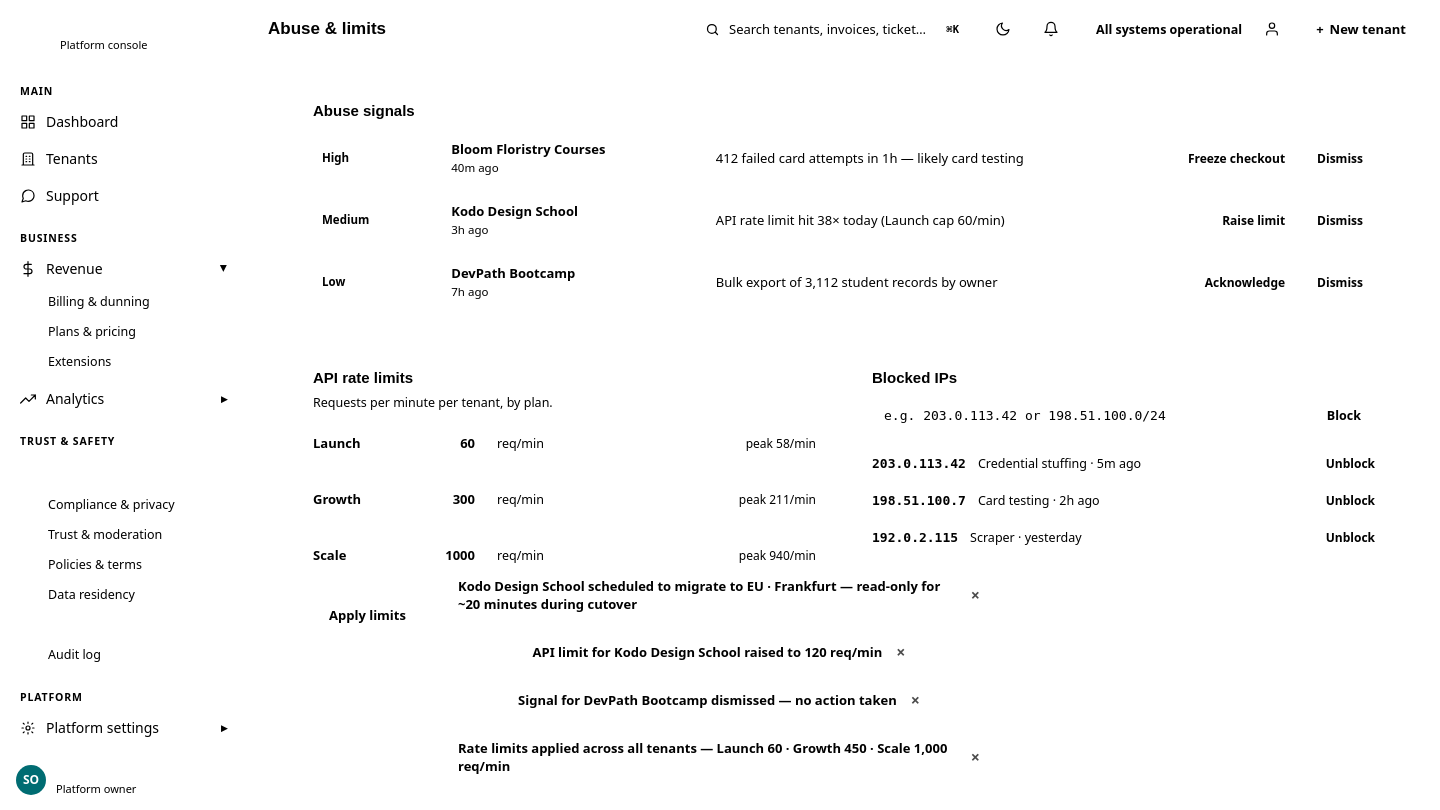
Scenario: abuse & limits › validates IPs client-side and server-side, and blocks a CIDR range
The width and height of the screenshot is (1440, 810).
Type "999.1.1.1" into the field named "IP address or CIDR range to block". click: (1088, 416)
box: [872,399,1305,432]
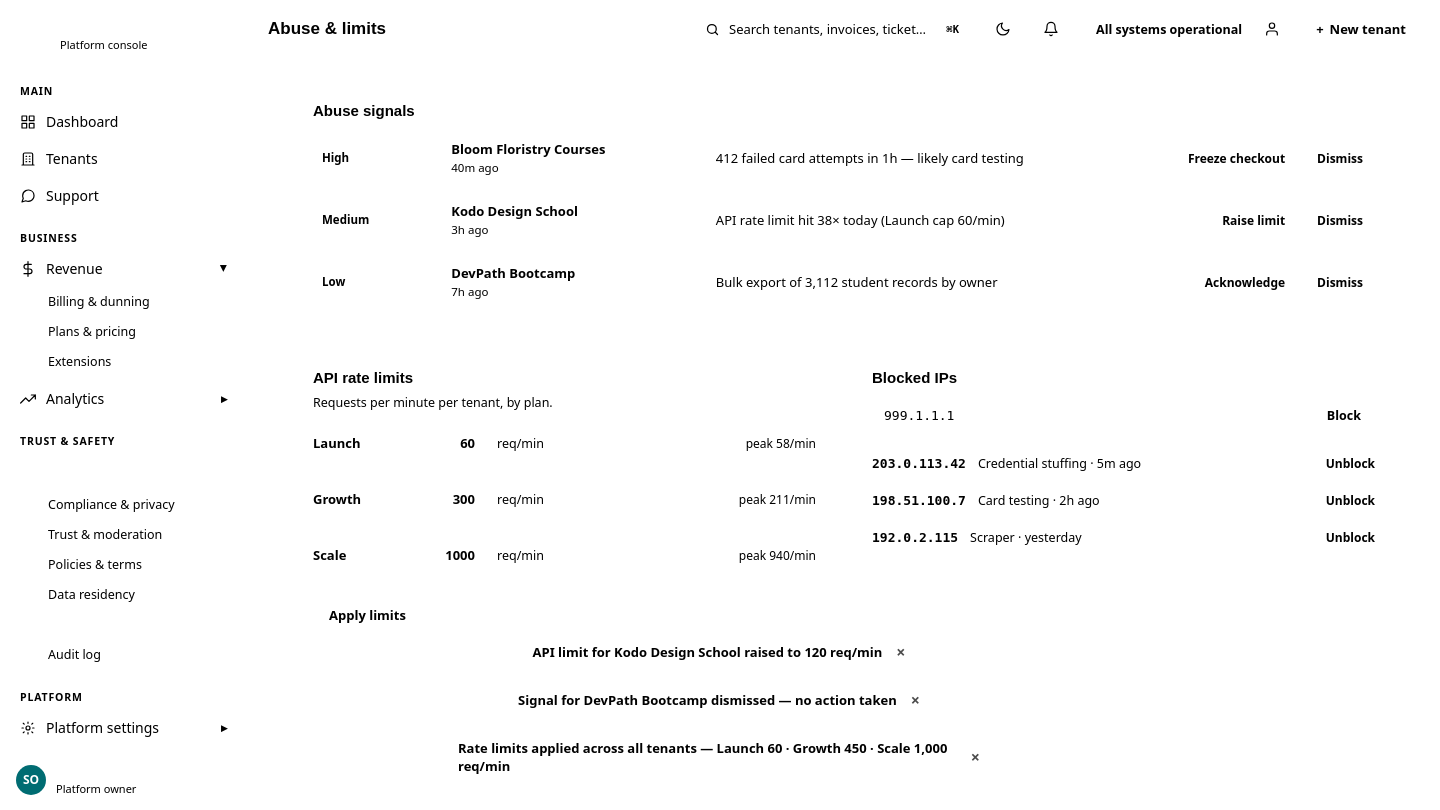
Click the button "Block". click: (1344, 416)
box: [1313,398,1375,433]
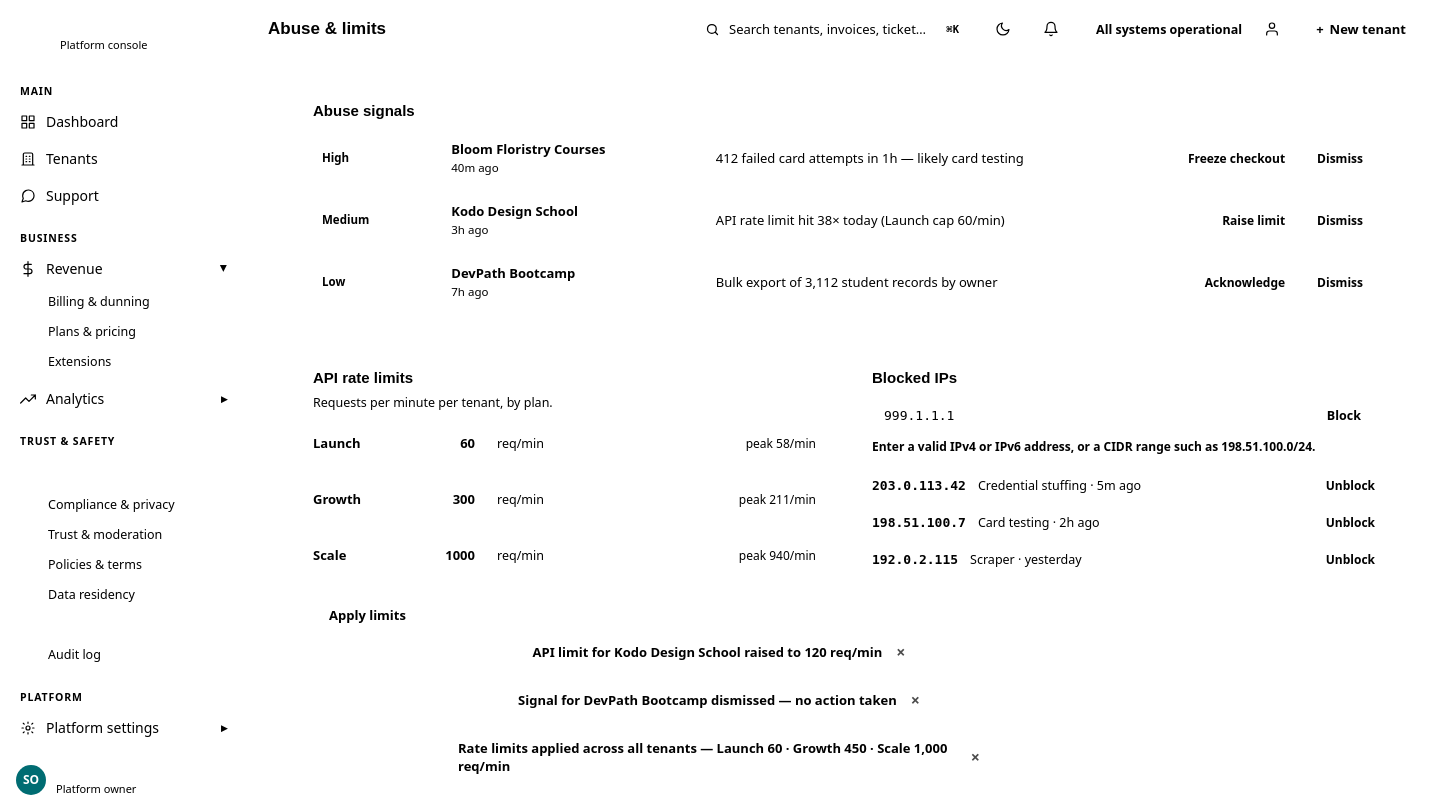
Expected: the text "Enter a valid IPv4 or IPv6 address, or a CIDR range such as 198.51.100.0/24." is shown, [872,438,1375,455]
Replace the text in the field named "IP address or CIDR range to block" with "203.0.113.42". click: (1088, 416)
box: [872,399,1305,432]
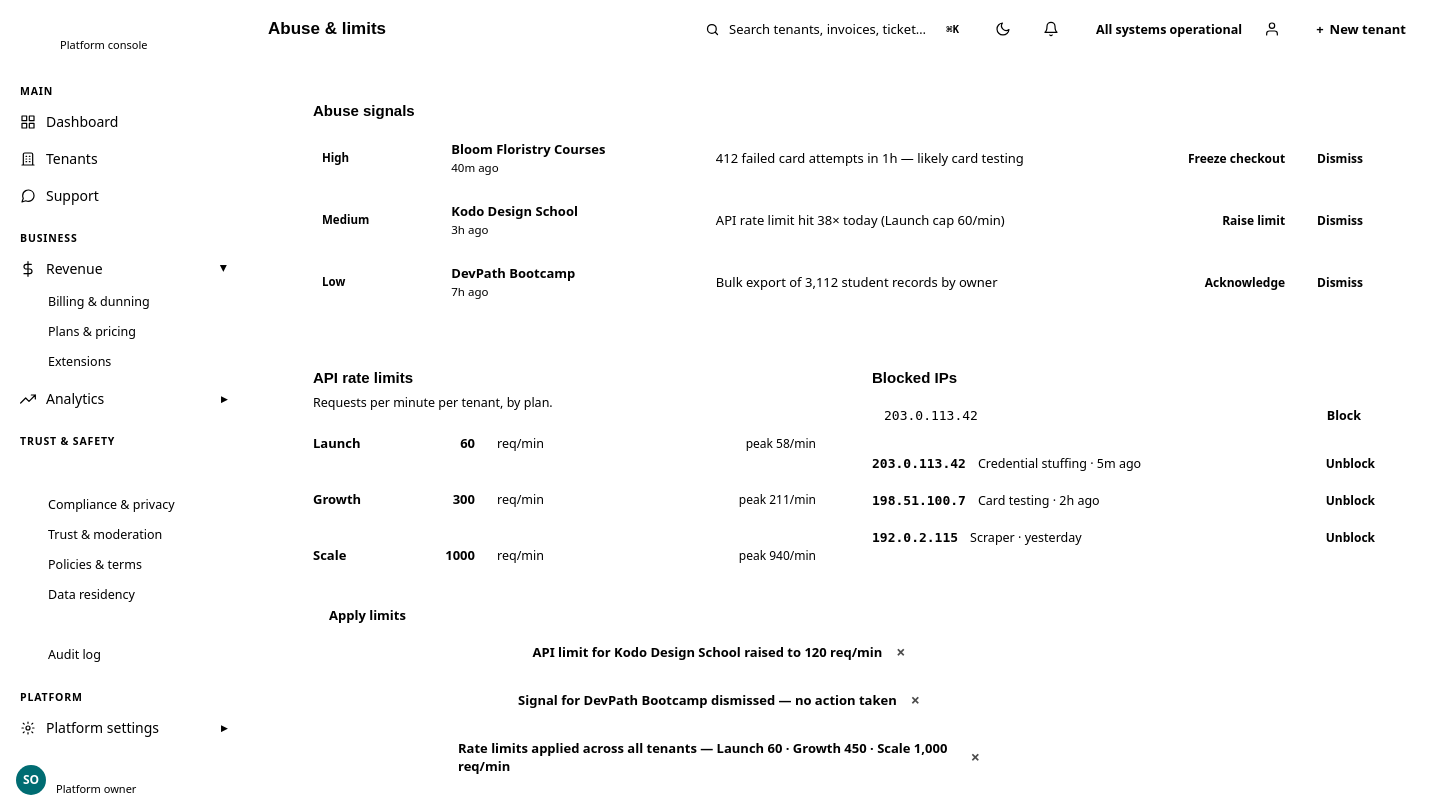
Click the button "Block". click: (1344, 416)
box: [1313,398,1375,433]
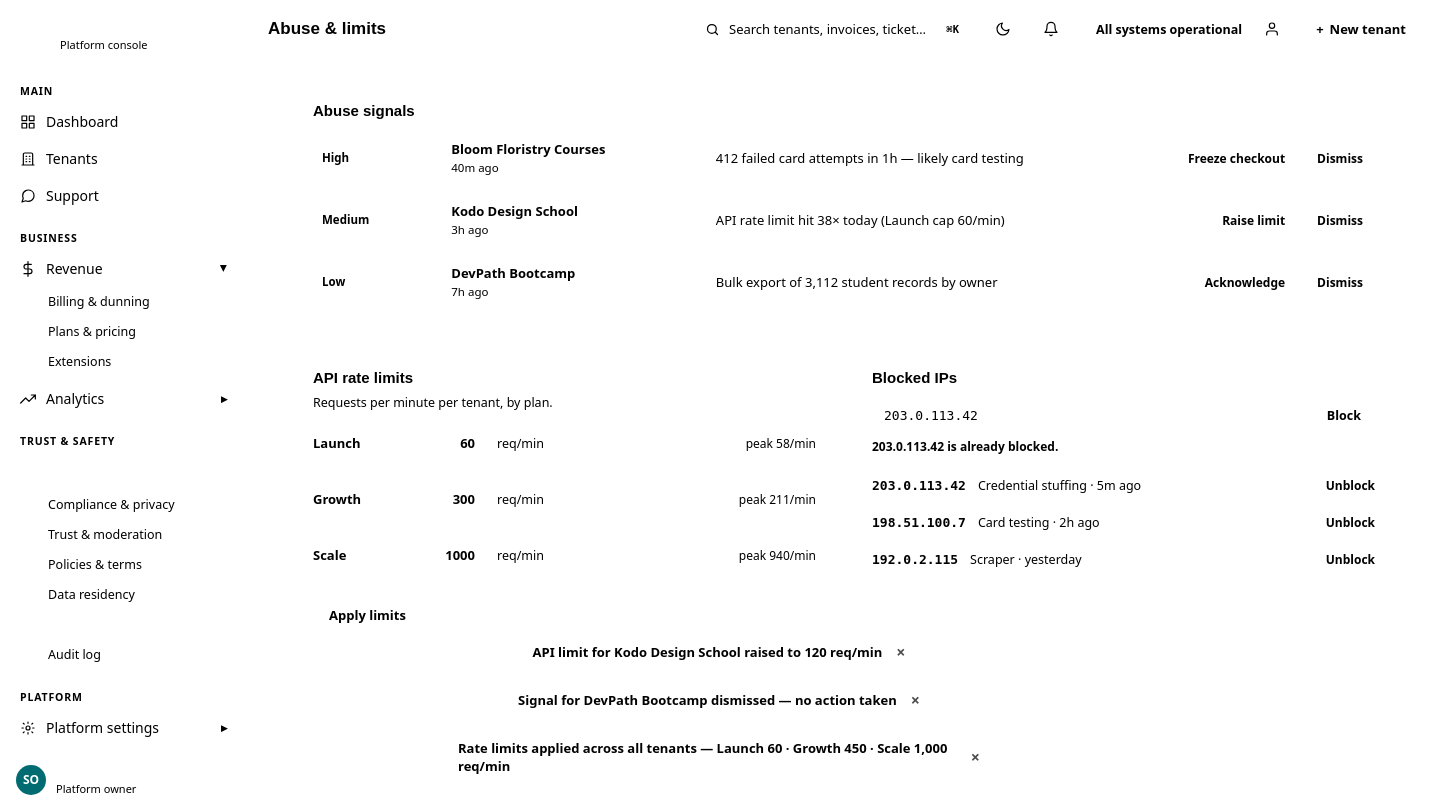
Expected: the text "203.0.113.42 is already blocked." is shown, [872,438,1058,455]
Replace the text in the field named "IP address or CIDR range to block" with "2001:db8::/32". click: (1088, 416)
box: [872,399,1305,432]
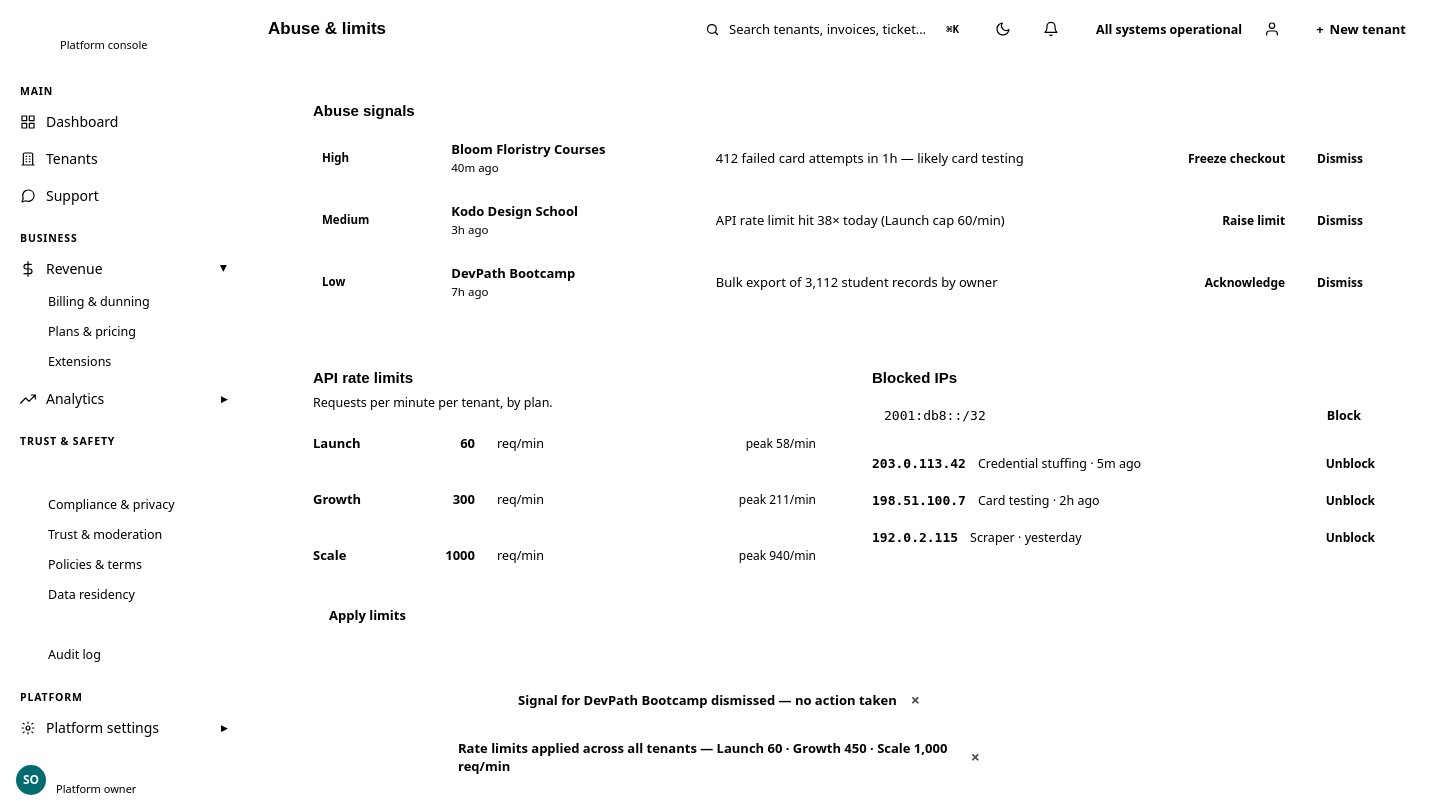
Click the button "Block". click: (1344, 416)
box: [1313,398,1375,433]
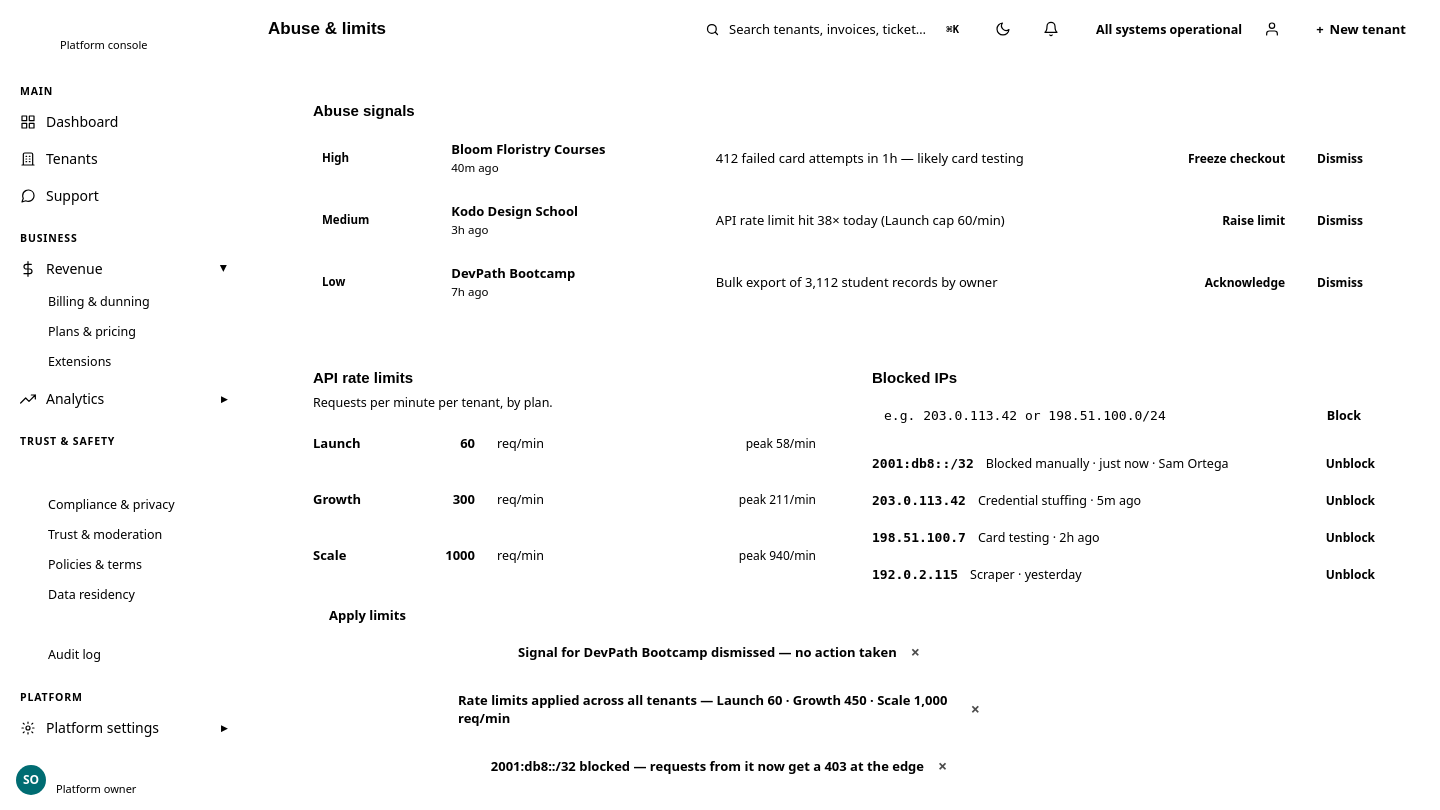
Expected: the text "2001:db8::/32" is shown, [872,456,974,471]
